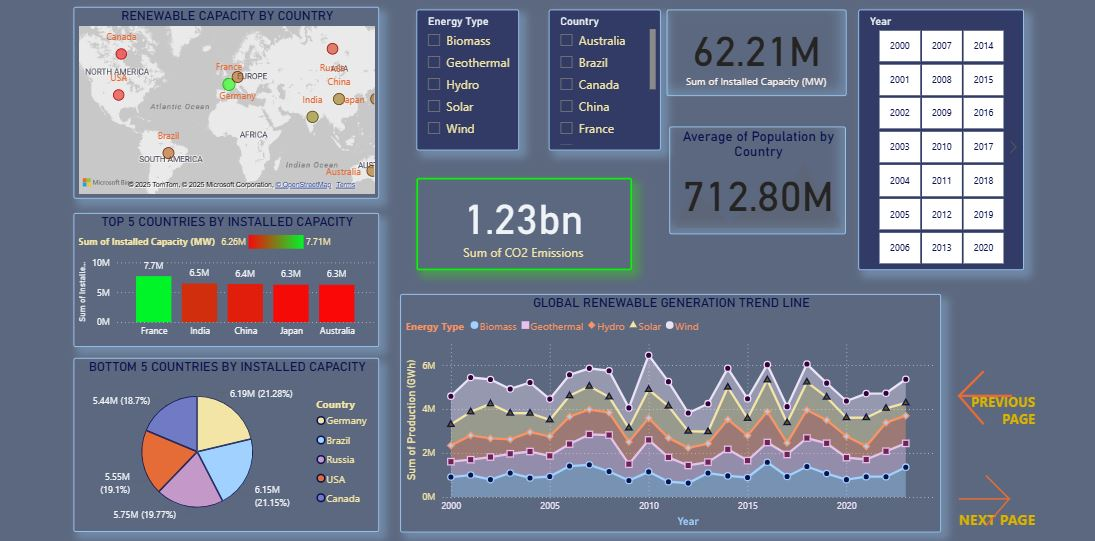

This screenshot's page, from the dashboard's own definition file:
{"tool":"powerbi","page":{"name":"GLOBAL RENEWABLE ENERGY OVERVIEW","canvas":[1280,720],"ordinal":2},"visuals":[{"type":"map","title":"RENEWABLE CAPACITY BY COUNTRY","fields":{"Category":["complete_renewable_energy_dataset.Country"],"Size":["Sum(complete_renewable_energy_dataset.Installed Capacity (MW))"]},"box":[17.4,13.7,400.6,251.3],"z":0},{"type":"stackedAreaChart","title":"GLOBAL RENEWABLE GENERATION TREND LINE","fields":{"Category":["complete_renewable_energy_dataset.Year"],"Y":["Sum(complete_renewable_energy_dataset.Production (GWh))"],"Series":["complete_renewable_energy_dataset.Energy Type"]},"box":[445.3,389.4,707.8,312.2],"z":1000},{"type":"columnChart","title":"TOP 5 COUNTRIES BY INSTALLED CAPACITY","fields":{"Category":["complete_renewable_energy_dataset.Country"],"Y":["Sum(complete_renewable_energy_dataset.Installed Capacity (MW))"]},"box":[17.4,283.6,400.6,175.4],"z":2000},{"type":"pieChart","title":"BOTTOM 5 COUNTRIES BY INSTALLED CAPACITY","fields":{"Category":["complete_renewable_energy_dataset.Country"],"Y":["Sum(complete_renewable_energy_dataset.Installed Capacity (MW))"]},"box":[17.4,473.9,400.6,227.6],"z":3000},{"type":"slicer","fields":{"Values":["complete_renewable_energy_dataset.Country"]},"box":[639.4,17.4,146.8,184.1],"z":4000},{"type":"card","fields":{"Values":["Sum(complete_renewable_energy_dataset.CO2 Emissions)"]},"box":[466.5,237.6,282.4,120.7],"z":5000},{"type":"slicer","fields":{"Values":["complete_renewable_energy_dataset.Energy Type"]},"box":[466.5,17.4,134.3,184.1],"z":6000},{"type":"card","fields":{"Values":["Sum(complete_renewable_energy_dataset.Installed Capacity (MW))"]},"box":[793.6,17.4,235.1,113.2],"z":7000},{"type":"slicer","fields":{"Values":["complete_renewable_energy_dataset.Year"]},"box":[1044.9,17.4,216.4,340.8],"z":8000},{"type":"kpi","fields":{"TrendLine":["complete_renewable_energy_dataset.Country"],"Indicator":["Avg(complete_renewable_energy_dataset.Population)"]},"box":[797.4,170.4,231.4,140.6],"z":9000},{"type":"actionButton","box":[1166.8,618.2,113.2,83.3],"z":10000},{"type":"actionButton","box":[1166.8,481.4,113.2,87.1],"z":11000}]}

Visuals, with their boxes on the page's 1280x720 design canvas (x1, y1, x2, y2). These are canvas units, not pixel positions in the 1095x541 screenshot, which may show the page scaled, cropped or inside an application window:
"RENEWABLE CAPACITY BY COUNTRY" map: l=17, t=14, r=418, b=265
"GLOBAL RENEWABLE GENERATION TREND LINE" stackedAreaChart: l=445, t=389, r=1153, b=702
"TOP 5 COUNTRIES BY INSTALLED CAPACITY" columnChart: l=17, t=284, r=418, b=459
"BOTTOM 5 COUNTRIES BY INSTALLED CAPACITY" pieChart: l=17, t=474, r=418, b=702
slicer - complete_renewable_energy_dataset.Country: l=639, t=17, r=786, b=202
card - Sum(complete_renewable_energy_dataset.CO2 Emissions): l=466, t=238, r=749, b=358
slicer - complete_renewable_energy_dataset.Energy Type: l=466, t=17, r=601, b=202
card - Sum(complete_renewable_energy_dataset.Installed Capacity (MW)): l=794, t=17, r=1029, b=131
slicer - complete_renewable_energy_dataset.Year: l=1045, t=17, r=1261, b=358
kpi - complete_renewable_energy_dataset.Country x Avg(complete_renewable_energy_dataset.Population): l=797, t=170, r=1029, b=311
actionButton: l=1167, t=618, r=1280, b=702
actionButton: l=1167, t=481, r=1280, b=568
